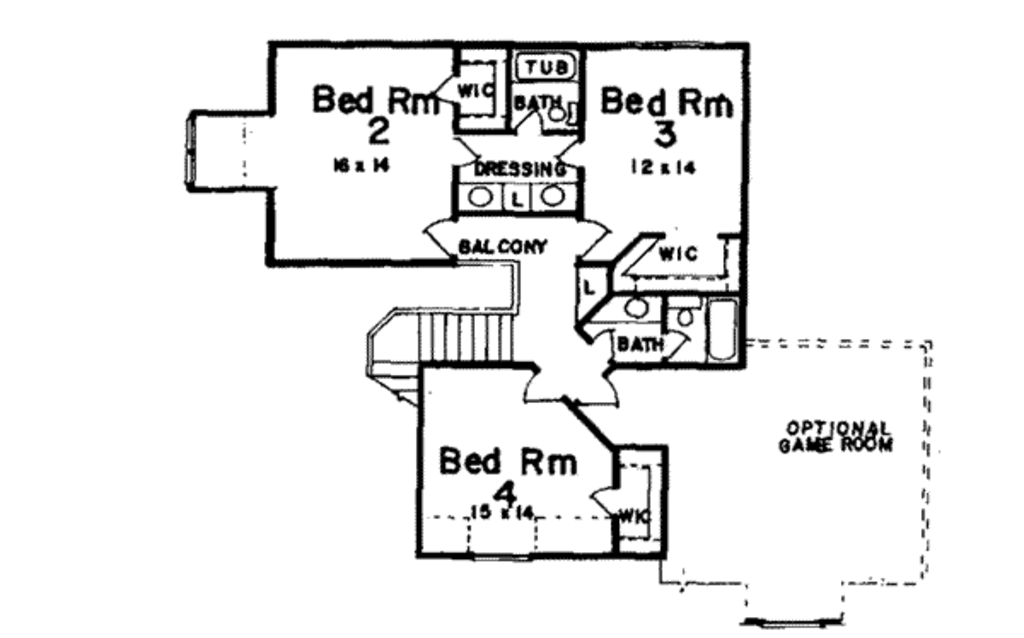door: (520, 363, 563, 409), (422, 217, 461, 264), (570, 216, 606, 259), (580, 374, 619, 409), (587, 326, 620, 366), (511, 101, 548, 136), (426, 70, 463, 104), (591, 481, 620, 522), (445, 130, 478, 166), (659, 327, 692, 363), (556, 134, 586, 166)
large_sink: (548, 97, 584, 128), (665, 294, 697, 325)
small_sink: (456, 182, 580, 214), (614, 293, 665, 323)
stairs: (357, 299, 518, 409)
tub: (705, 297, 739, 363), (511, 49, 578, 82)
window: (180, 114, 194, 182)
